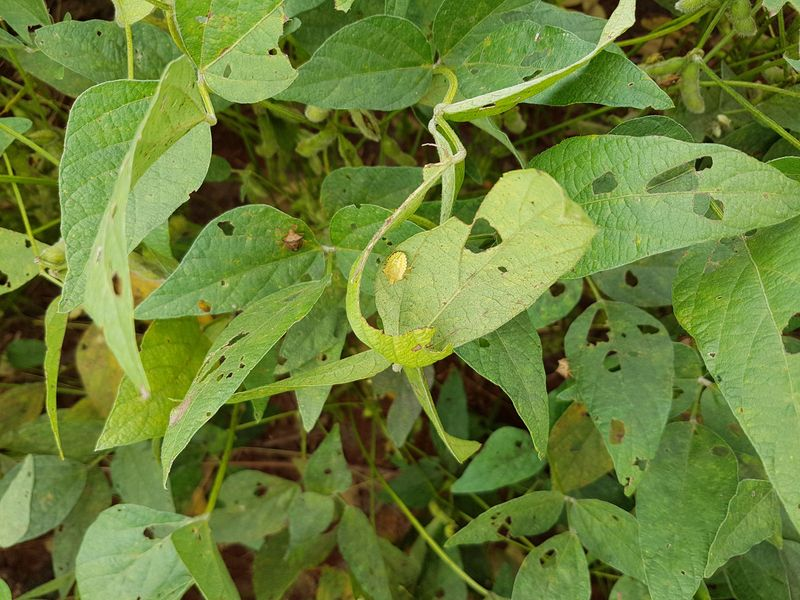Euschistus_heros_adulto: (271, 220, 313, 259)
Euschistus_heros_ninfa: (376, 248, 419, 291)
